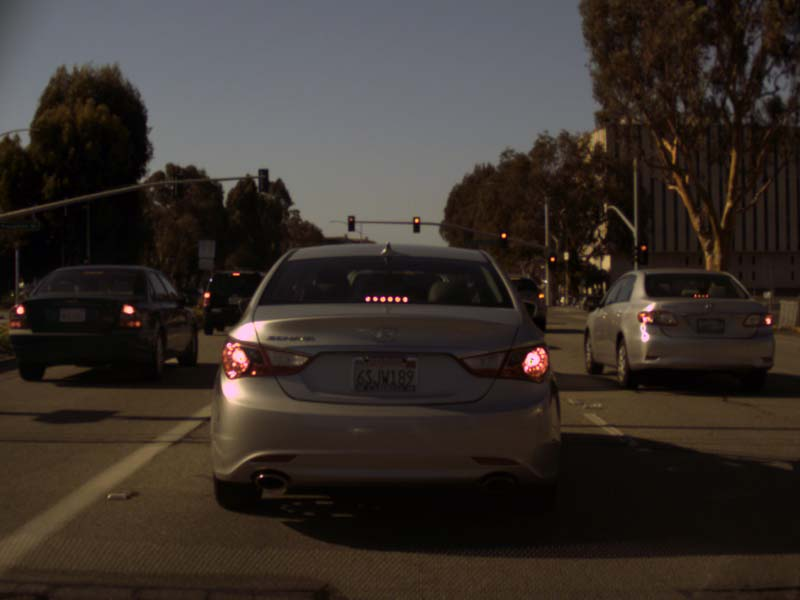Red: (638, 243, 647, 263), (500, 230, 507, 246), (548, 255, 555, 270), (413, 217, 419, 232), (348, 216, 354, 230), (82, 258, 88, 265)
